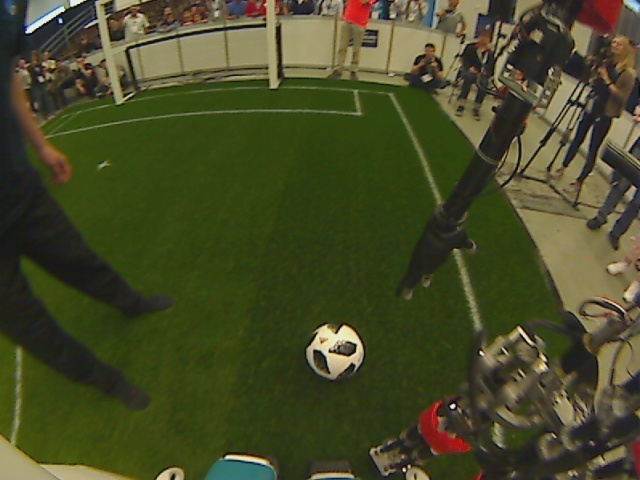ball: (305, 321, 365, 384)
